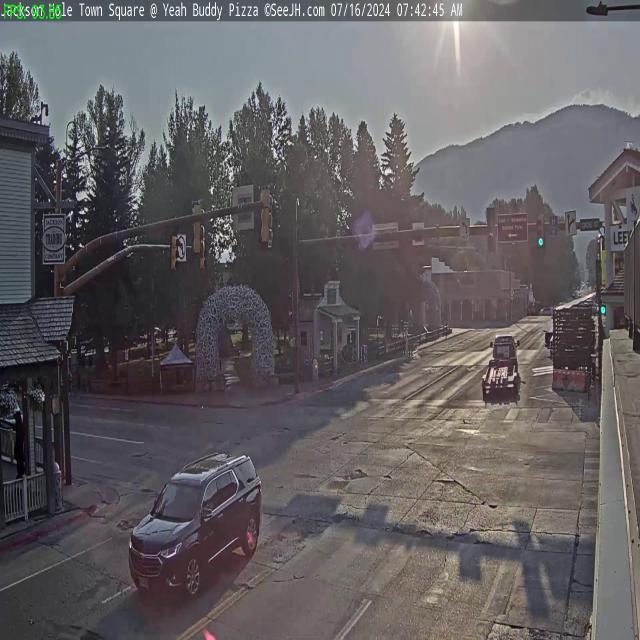pickup: (492, 333, 518, 367)
suv: (126, 449, 266, 595)
traffic light: (259, 184, 272, 248), (192, 202, 203, 255), (488, 207, 496, 252), (170, 236, 178, 274), (536, 214, 544, 250), (200, 236, 207, 274)
